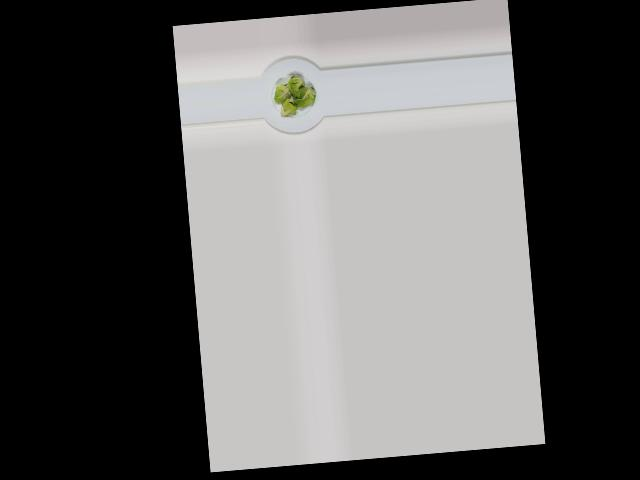lettuce: (273, 72, 321, 118)
